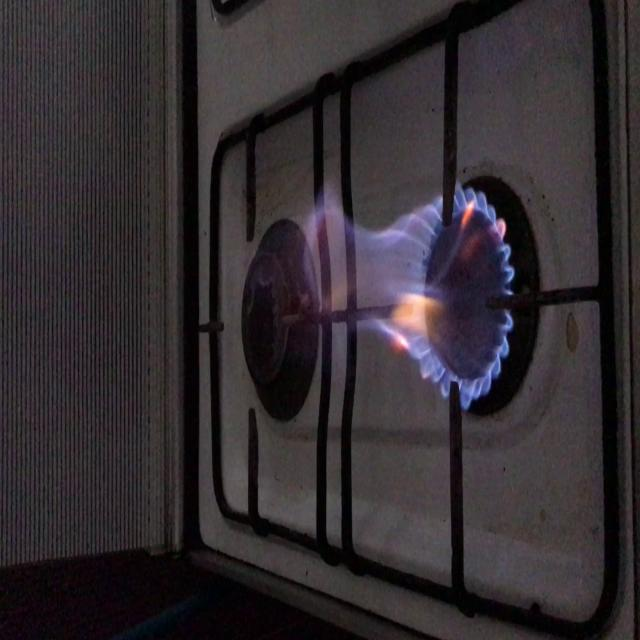fire: (312, 194, 508, 388)
